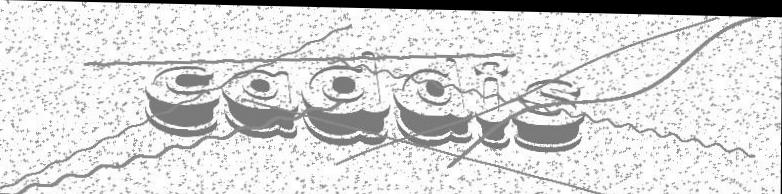a: (222, 67, 300, 138)
c: (145, 63, 222, 138)
d: (301, 47, 389, 145), (392, 54, 473, 146)
i: (471, 56, 512, 149)
s: (512, 75, 585, 151)
